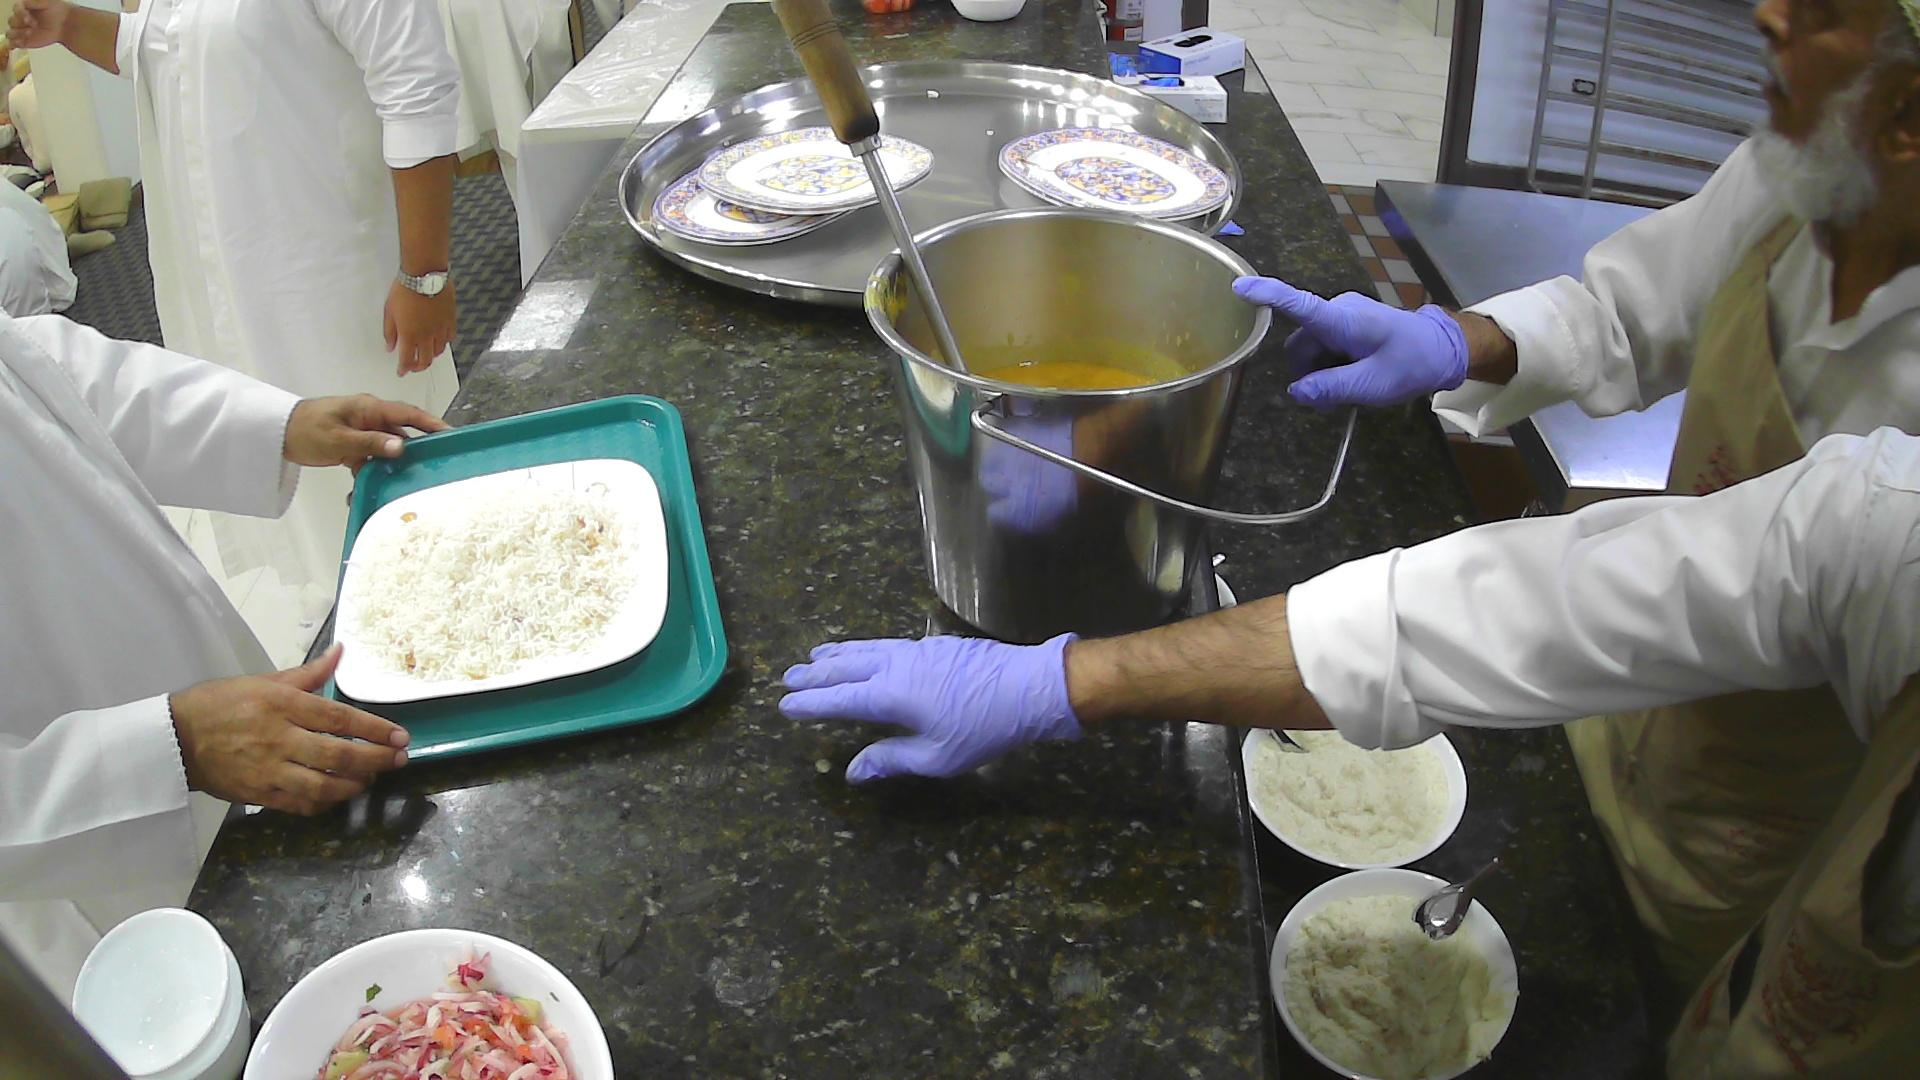thaal: (616, 55, 1246, 318)
